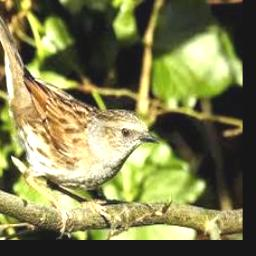Sparrow: (0, 5, 160, 236)
